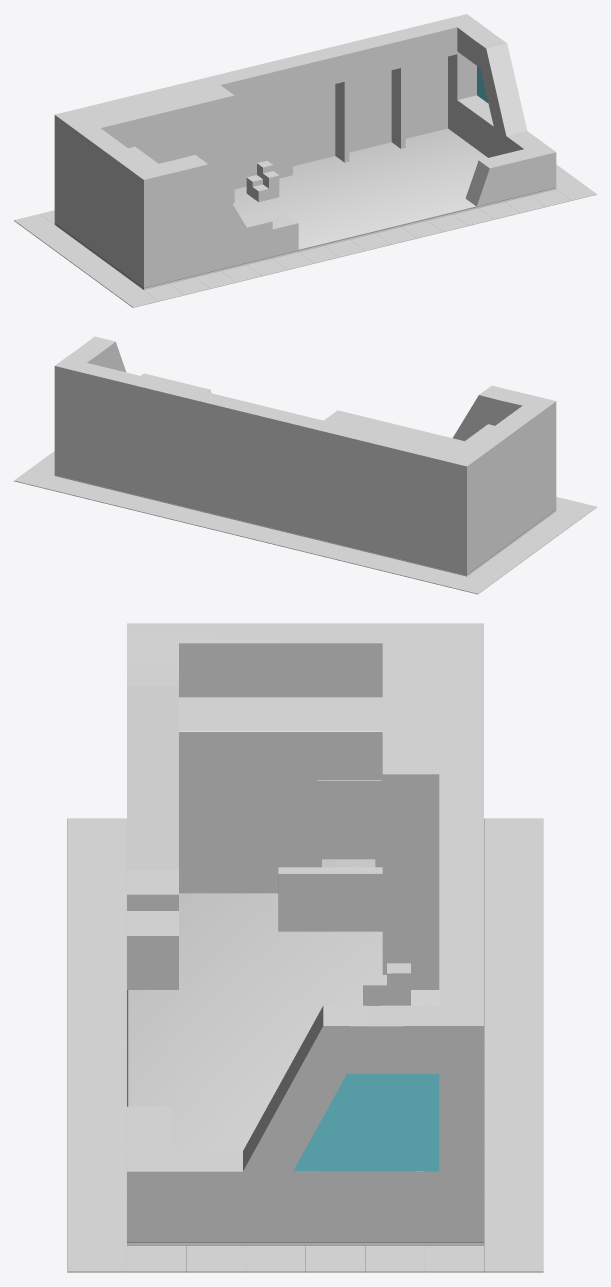
File: Stand_5.fbx
The picture shows the model from 3 angles, top to bottom: view 1: azimuth 30°, elevation 25°; view 2: azimuth 150°, elevation 25°; view 3: azimuth 270°, elevation 25°; orthographic projection. The views are drawn at different scales.
Visible parts, largest first — view 1: Stand_5, Stand_5_Picture_1, Stand_5_Picture_2, Stand_5_Picture_3, Stand_5_Logo, Stand_5_Table_2; view 2: Stand_5; view 3: Stand_5, Stand_5_Table_1, Stand_5_Logo, Stand_5_Table_2.
Boxes of the visible parts, x1,y1,x2,y2 form: Stand_5: [14, 14, 596, 307]; Stand_5_Picture_1: [405, 56, 447, 138]; Stand_5_Picture_2: [349, 70, 391, 152]; Stand_5_Picture_3: [293, 84, 335, 166]; Stand_5_Logo: [165, 99, 231, 195]; Stand_5_Table_2: [246, 160, 279, 202]; Stand_5: [14, 336, 596, 594]; Stand_5: [67, 623, 543, 1272]; Stand_5_Table_1: [278, 867, 382, 931]; Stand_5_Logo: [378, 1031, 432, 1068]; Stand_5_Table_2: [363, 963, 410, 1005].
Bounding box in the file's own units: 1800 × 411 × 800.
